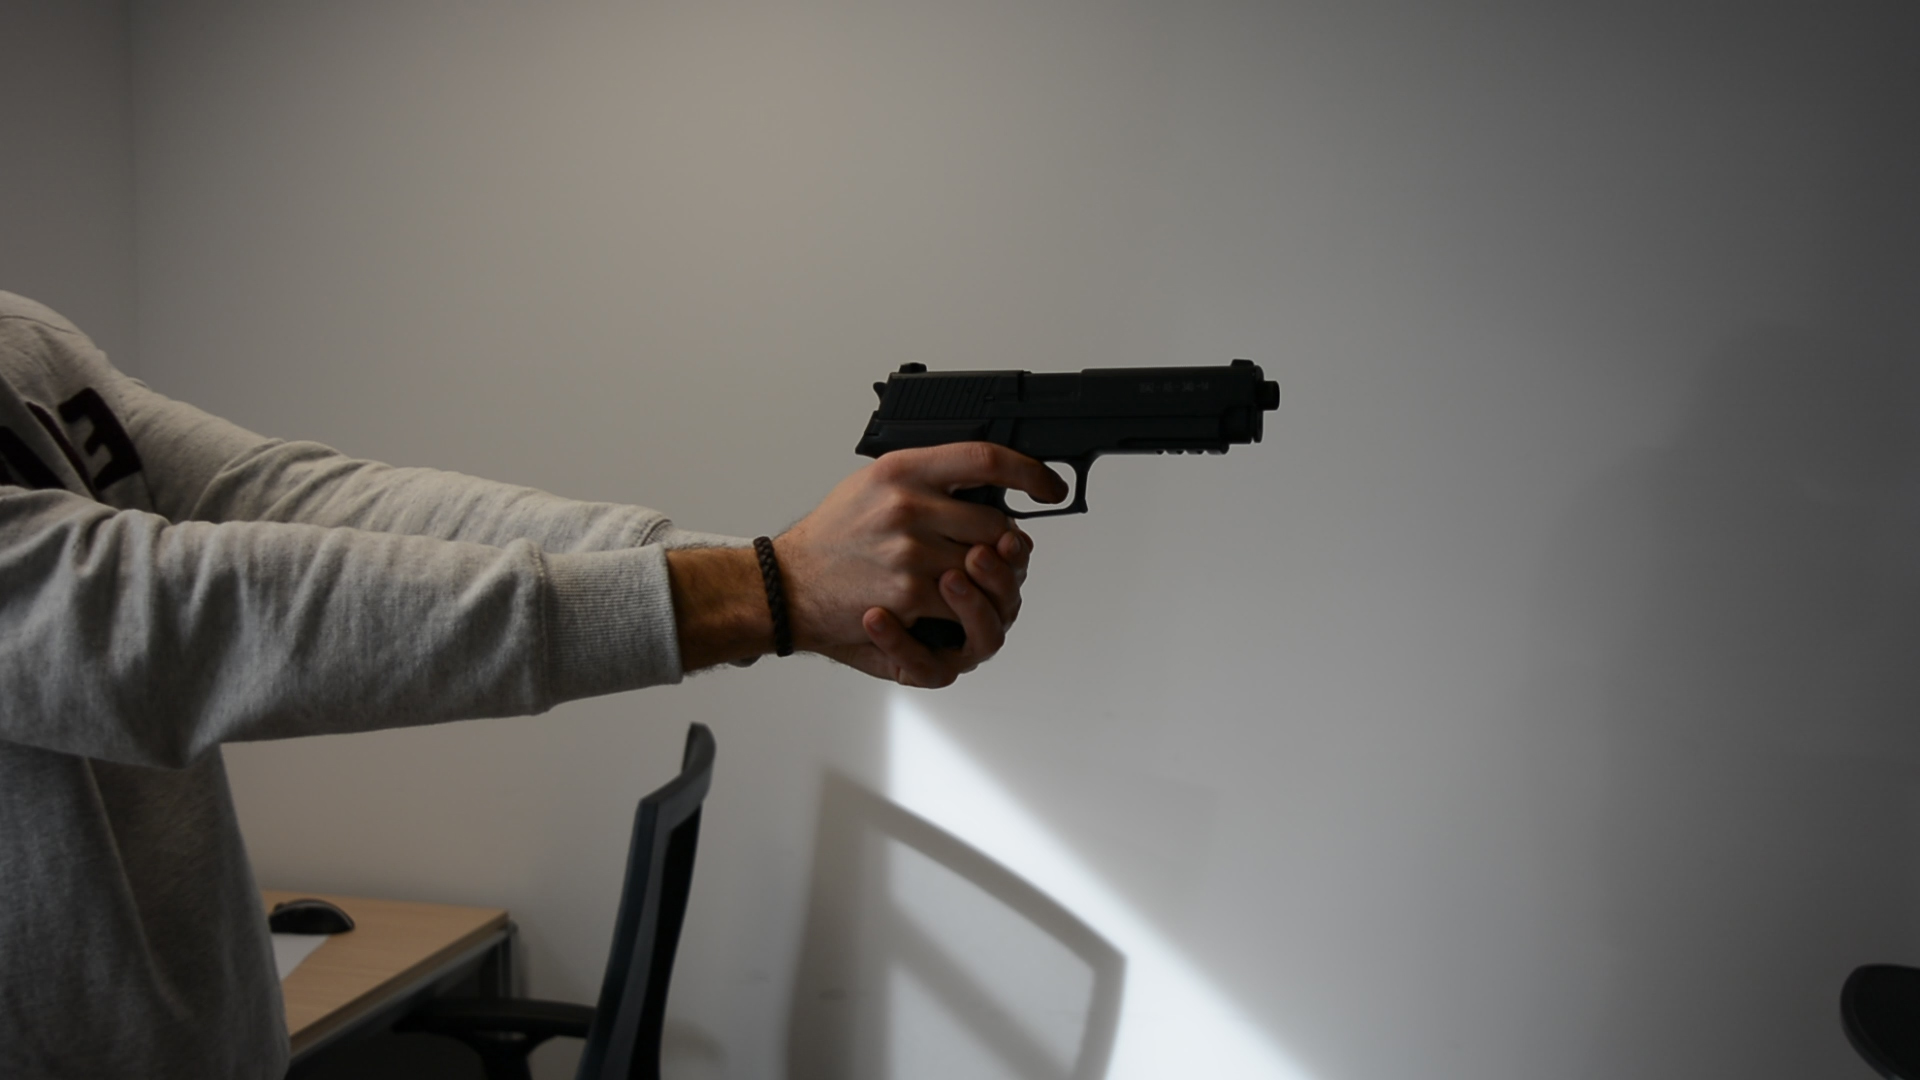pistol: (851, 356, 1282, 526)
